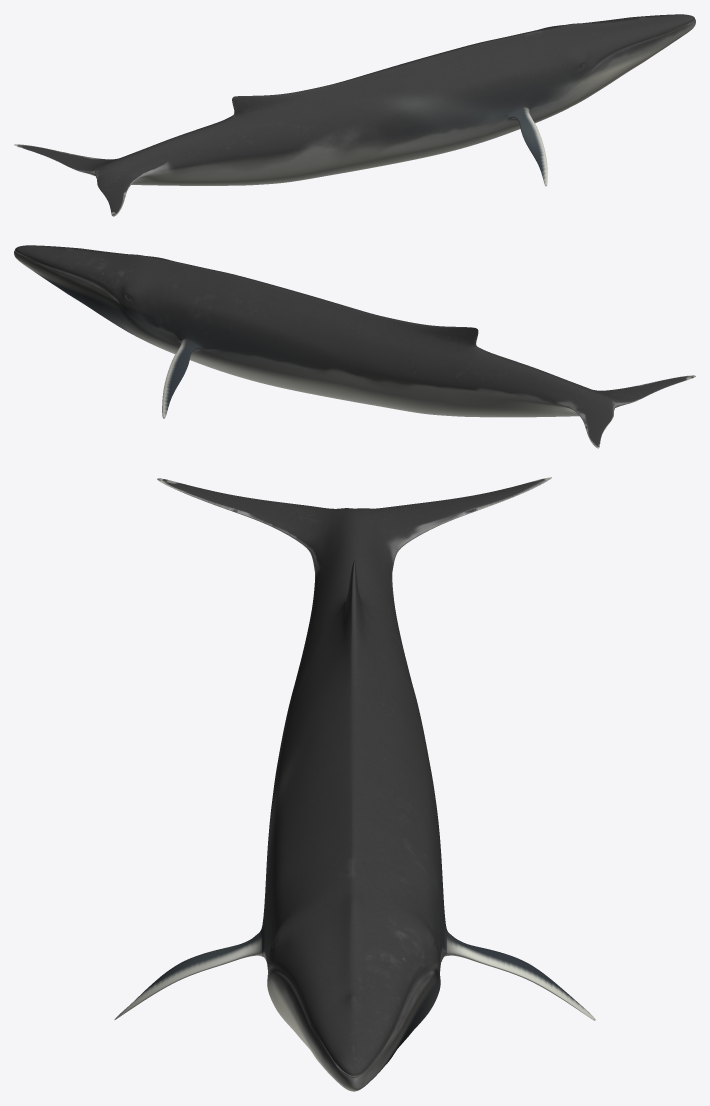
File: model-cetacean-balaenoptera-omurai-v0677.glb
The picture shows the model from 3 angles, top to bottom: view 1: azimuth 30°, elevation 25°; view 2: azimuth 150°, elevation 25°; view 3: azimuth 270°, elevation 25°; orthographic projection. The views are drawn at different scales.
Parts seen in each view (by area): view 1: balaenoptera-omurai source-derived exterior; view 2: balaenoptera-omurai source-derived exterior; view 3: balaenoptera-omurai source-derived exterior.
Boxes of the visible parts, x1,y1,x2,y2 form: balaenoptera-omurai source-derived exterior: (14,14,695,216); balaenoptera-omurai source-derived exterior: (14,245,695,448); balaenoptera-omurai source-derived exterior: (114,477,595,1091).
Size of the model in its own units: 3.85 by 0.6271 by 1.27.
1 material, 1 textured.
